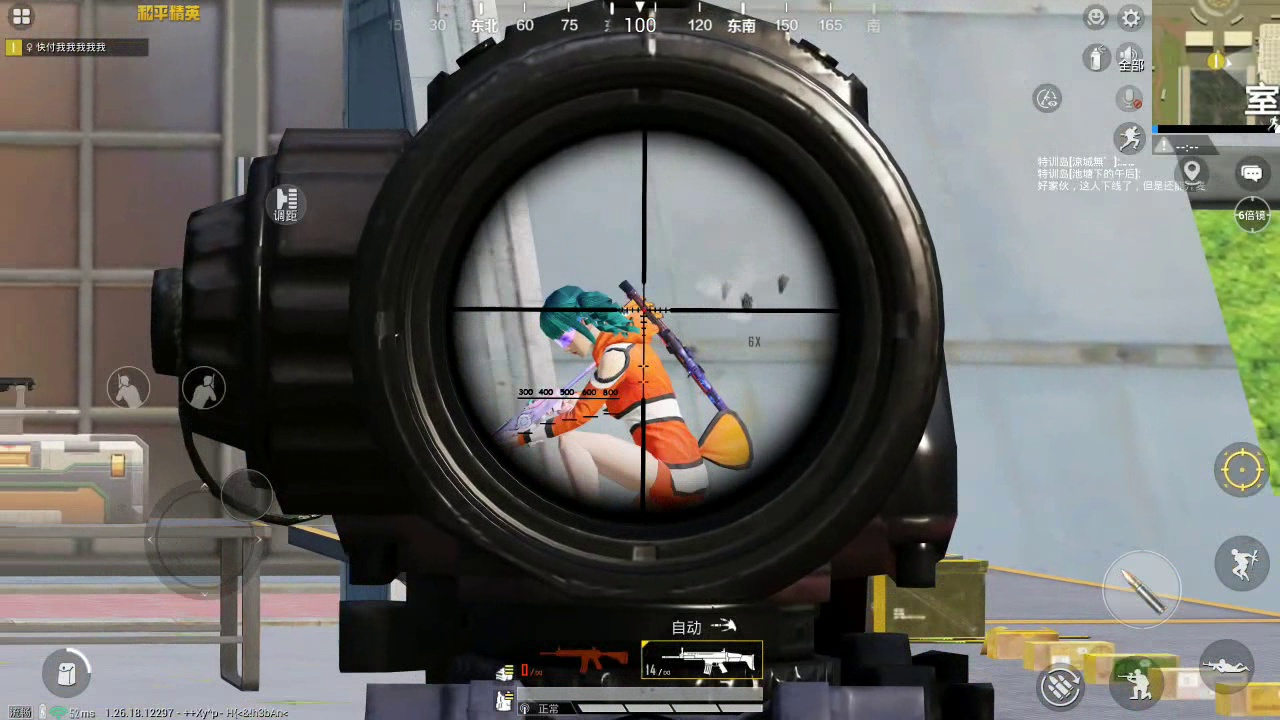enemy: (530, 289, 724, 501)
